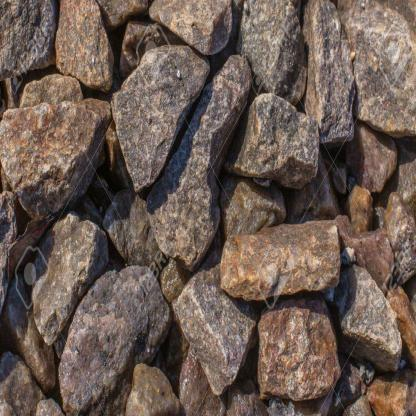Igneous_Granite: (0, 63, 104, 224), (112, 42, 213, 191), (58, 255, 154, 393), (168, 260, 251, 382), (230, 219, 348, 300), (240, 84, 320, 201), (304, 0, 360, 152), (256, 311, 338, 404), (343, 271, 403, 354)
